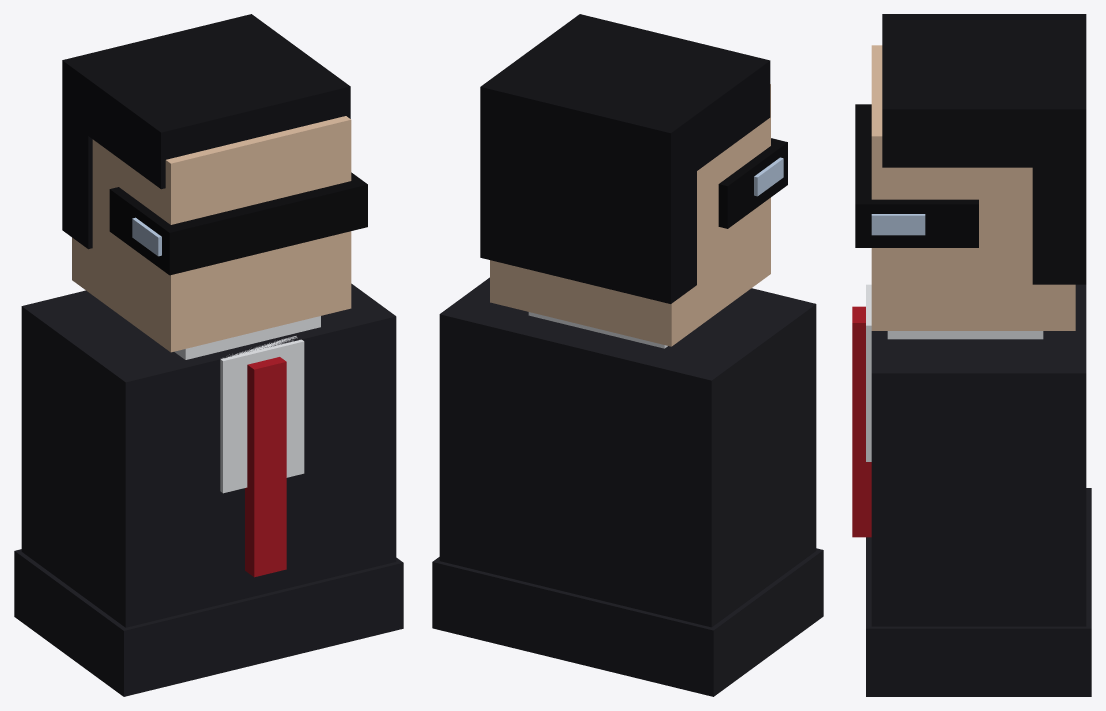
The model's file is suitman_body.obj.
The picture shows the model from 3 angles, left to right: view 1: azimuth 30°, elevation 25°; view 2: azimuth 150°, elevation 25°; view 3: azimuth 270°, elevation 25°; orthographic projection. The views are drawn at different scales.
Visible parts, largest first — view 1: suitman_body; view 2: suitman_body; view 3: suitman_body.
Part boxes in pixels (x1=…): suitman_body: x1=14, y1=14, x2=403, y2=696; suitman_body: x1=432, y1=14, x2=823, y2=696; suitman_body: x1=852, y1=14, x2=1091, y2=696.
Size of the model in its own units: 0.31 by 0.58 by 0.223.
Materials: 1 (1 with a texture image).
